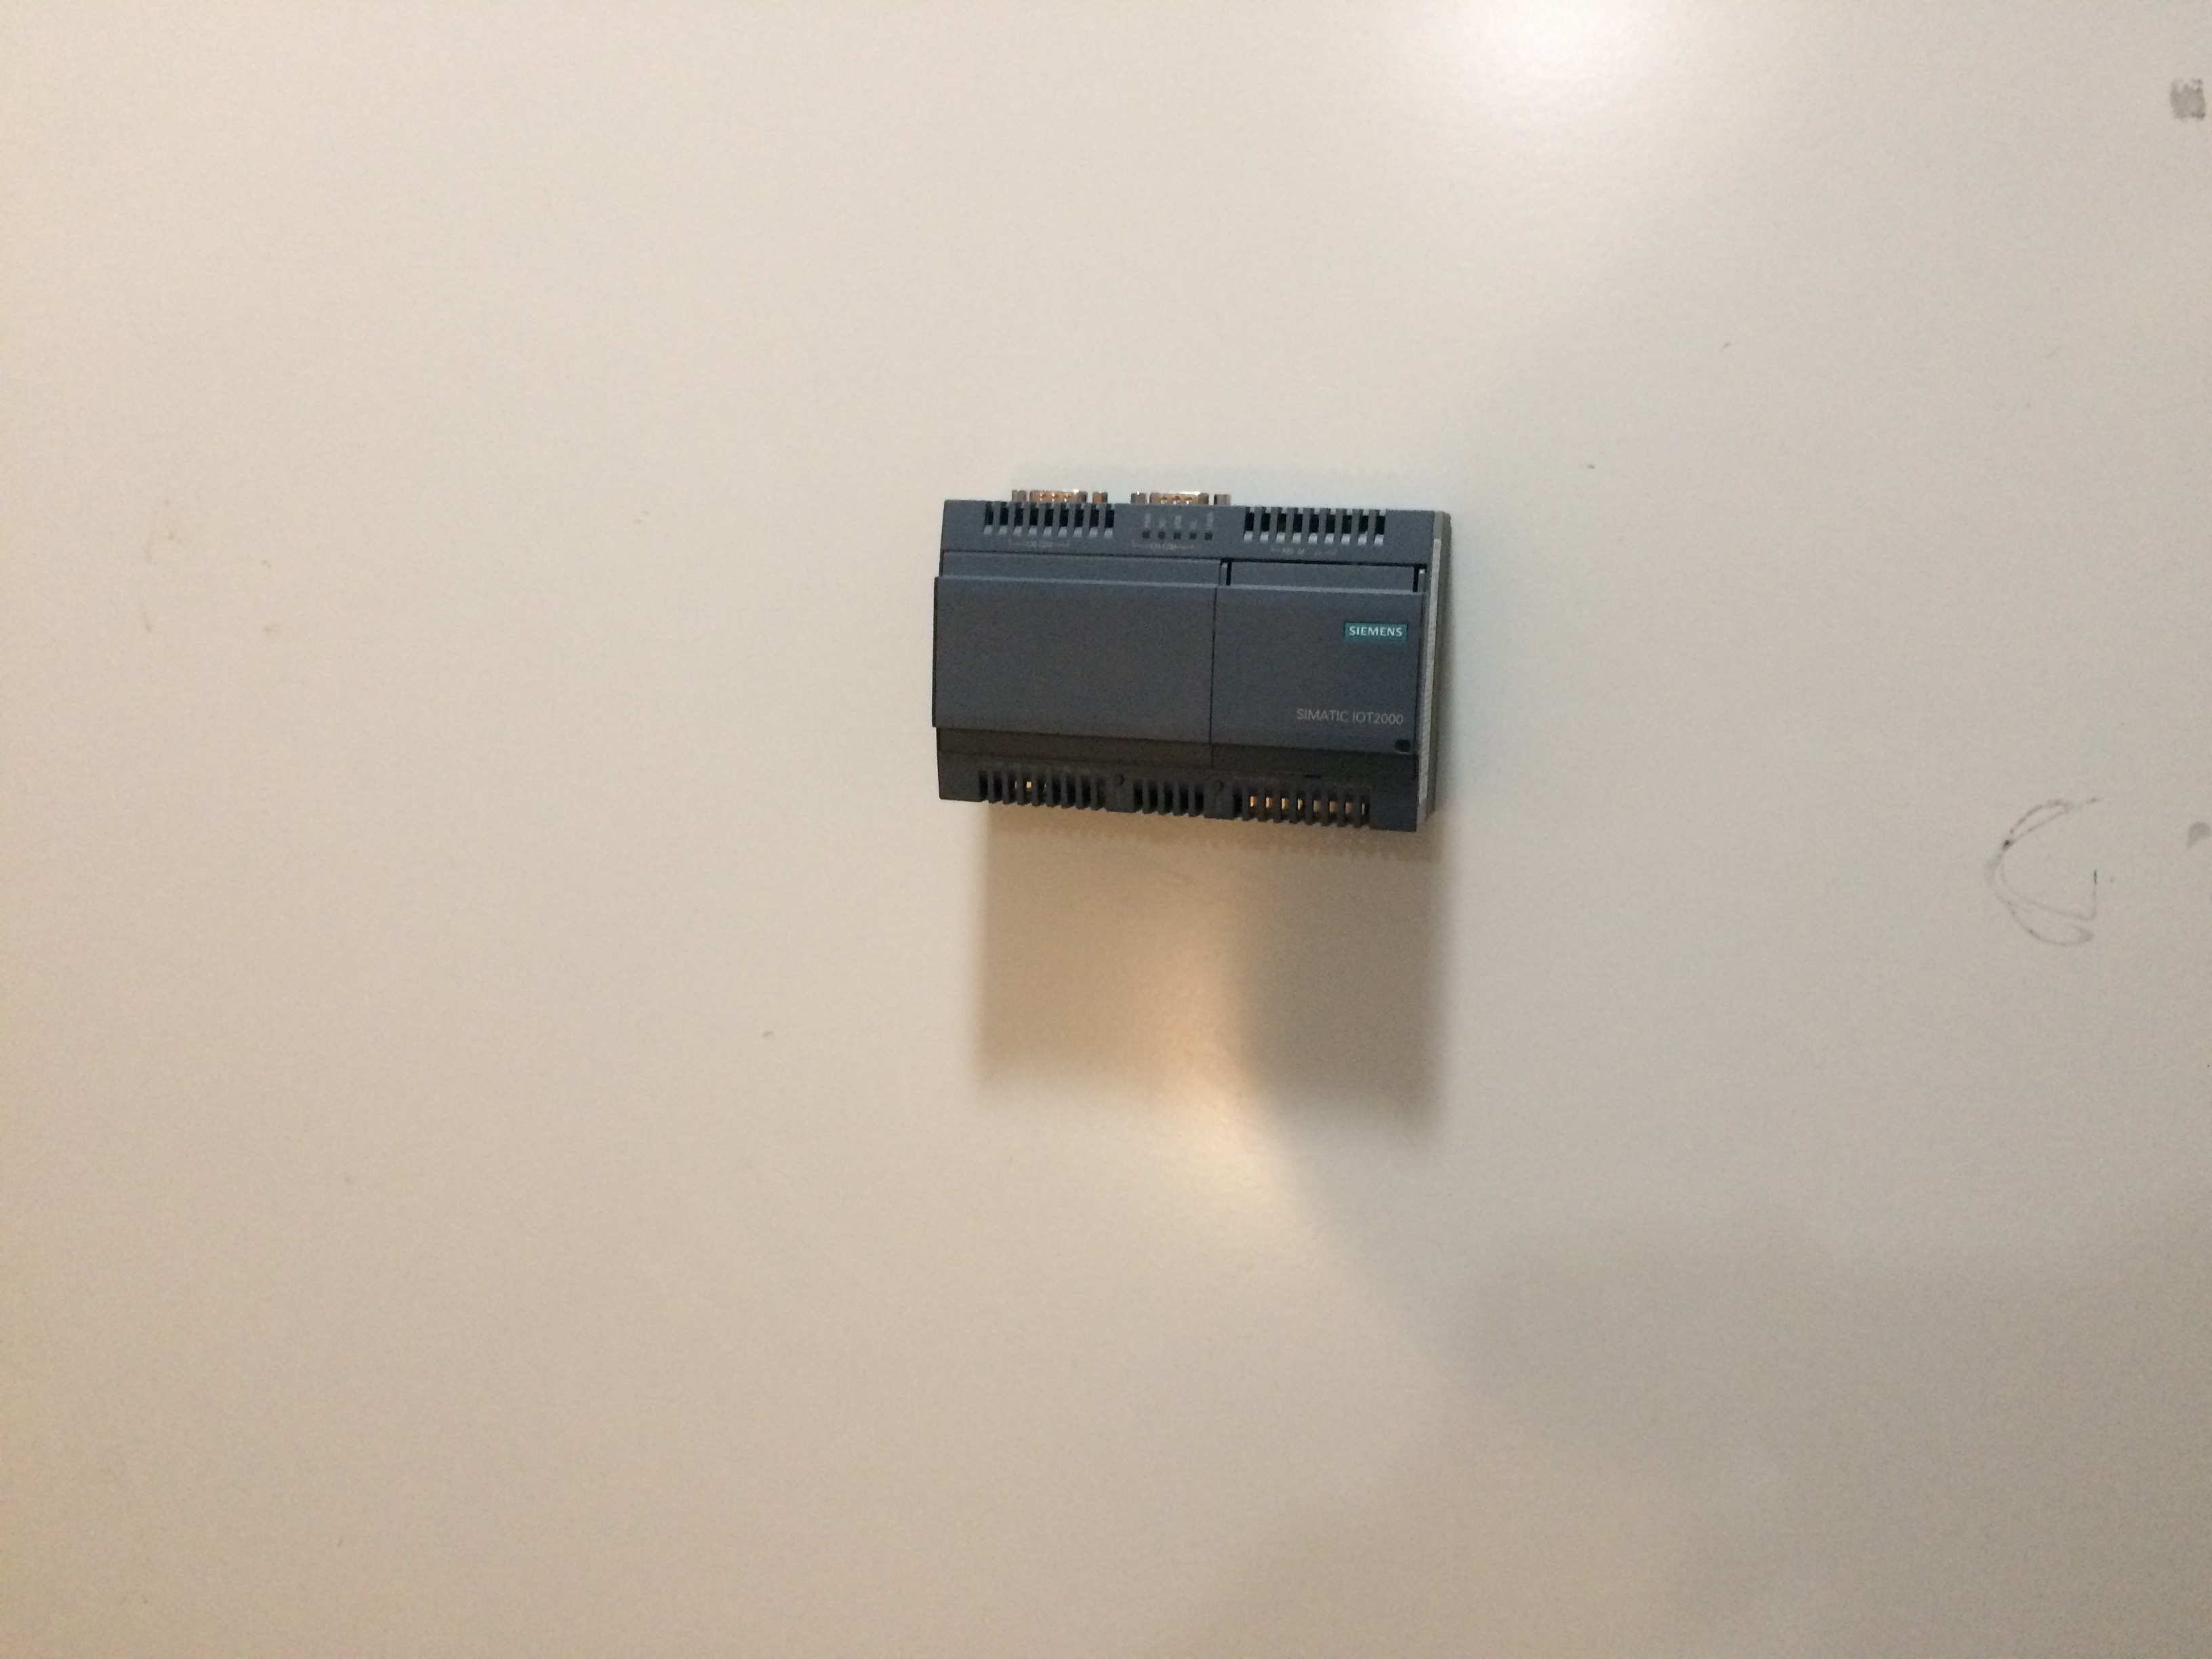iot2000: (928, 484, 1458, 840)
